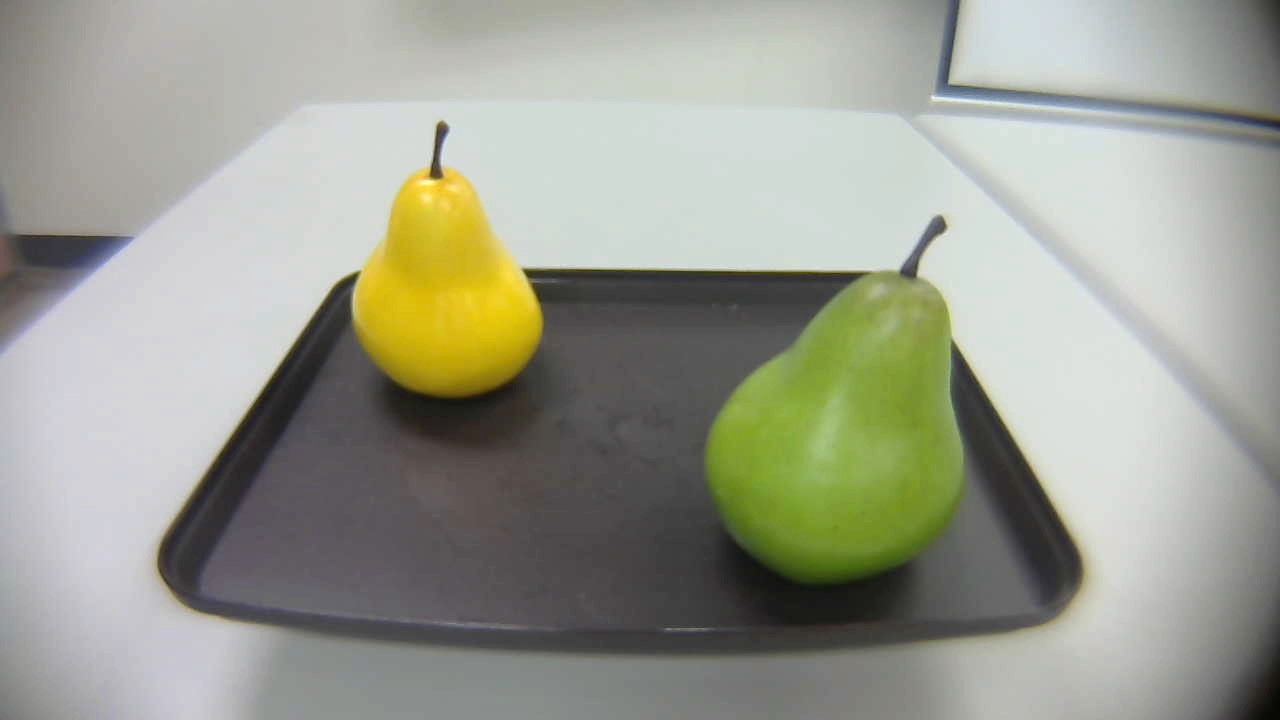green pear: (684, 209, 972, 577)
yellow pear: (328, 121, 554, 401)
